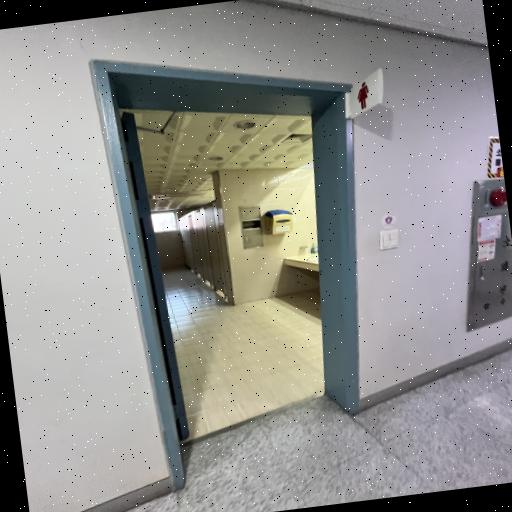door: (89, 60, 360, 494)
